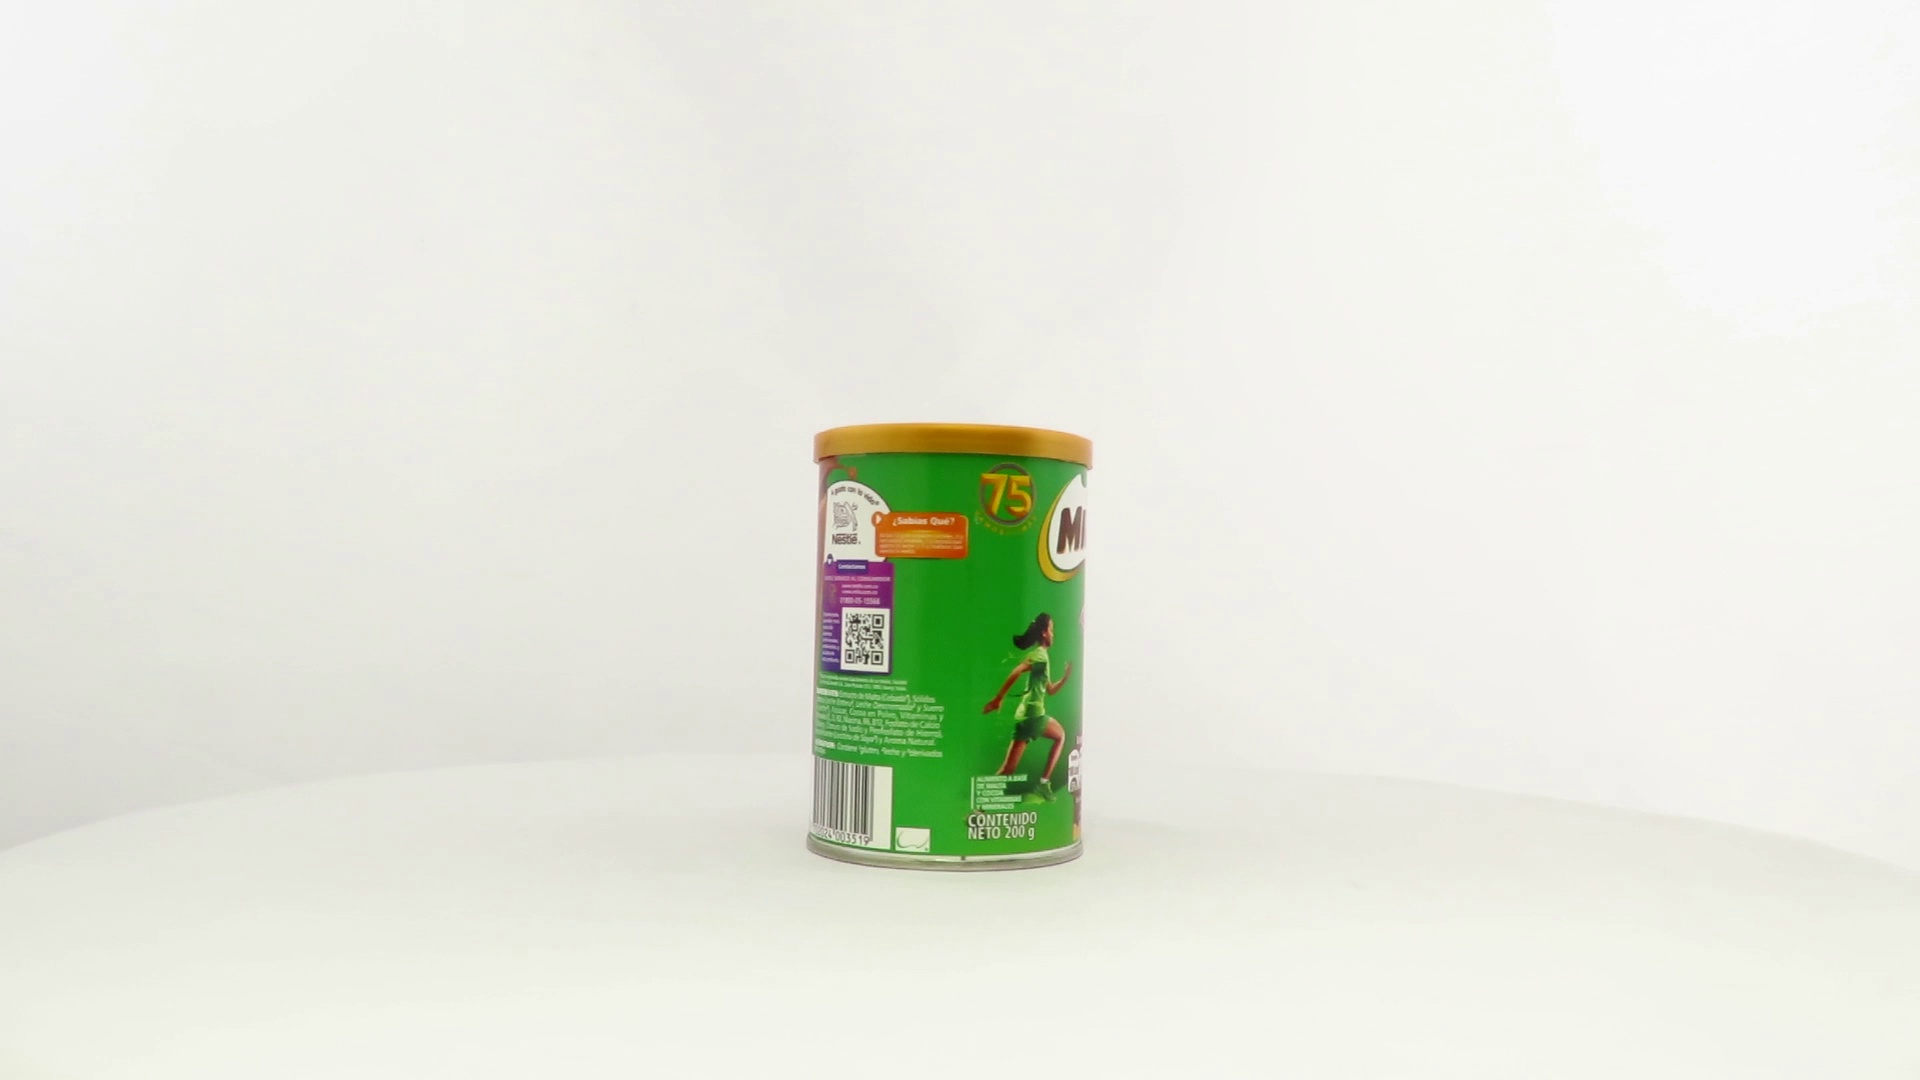COL0170203LAT20000: (800, 417, 1098, 880)
